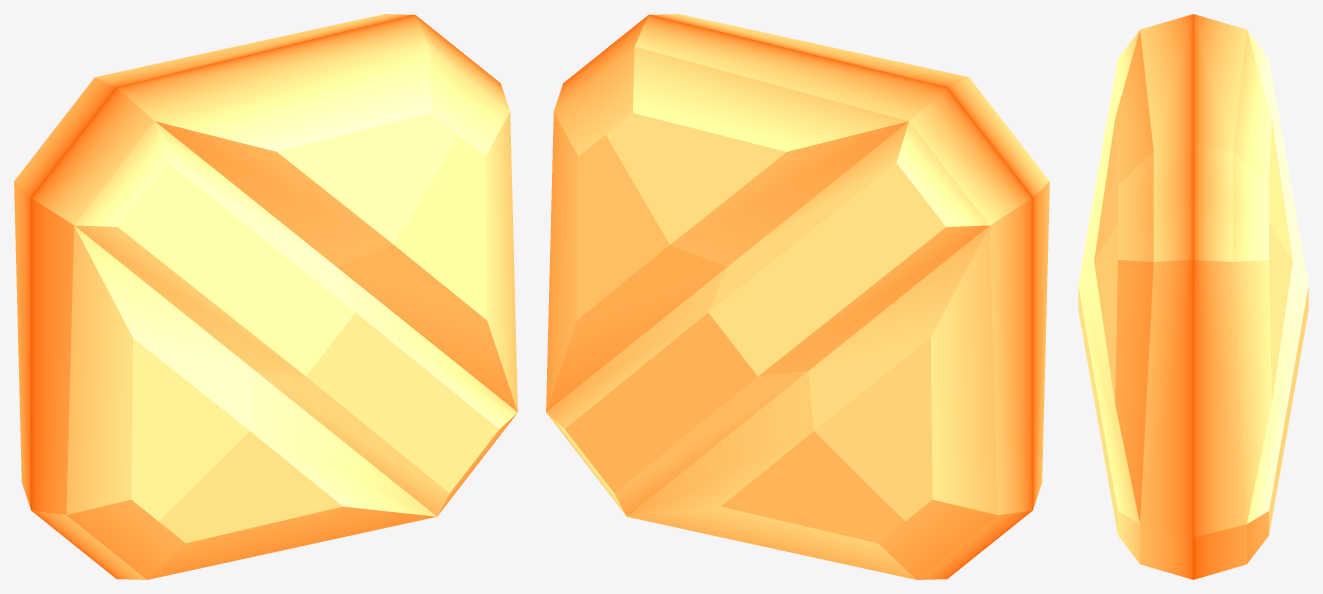
File: uploads_files_3062537_Charcoal.fbx
The picture shows the model from 3 angles, left to right: view 1: azimuth 30°, elevation 25°; view 2: azimuth 150°, elevation 25°; view 3: azimuth 270°, elevation 25°; orthographic projection. The views are drawn at different scales.
Visible parts, largest first — view 1: Charcoal Briquette; view 2: Charcoal Briquette; view 3: Charcoal Briquette.
Boxes of the visible parts, box(x1,y1,x2,y2) form: Charcoal Briquette: box(14, 14, 517, 579); Charcoal Briquette: box(546, 14, 1049, 579); Charcoal Briquette: box(1078, 14, 1308, 579).
Bounding box in the file's own units: 5.08 × 5.08 × 2.43.
